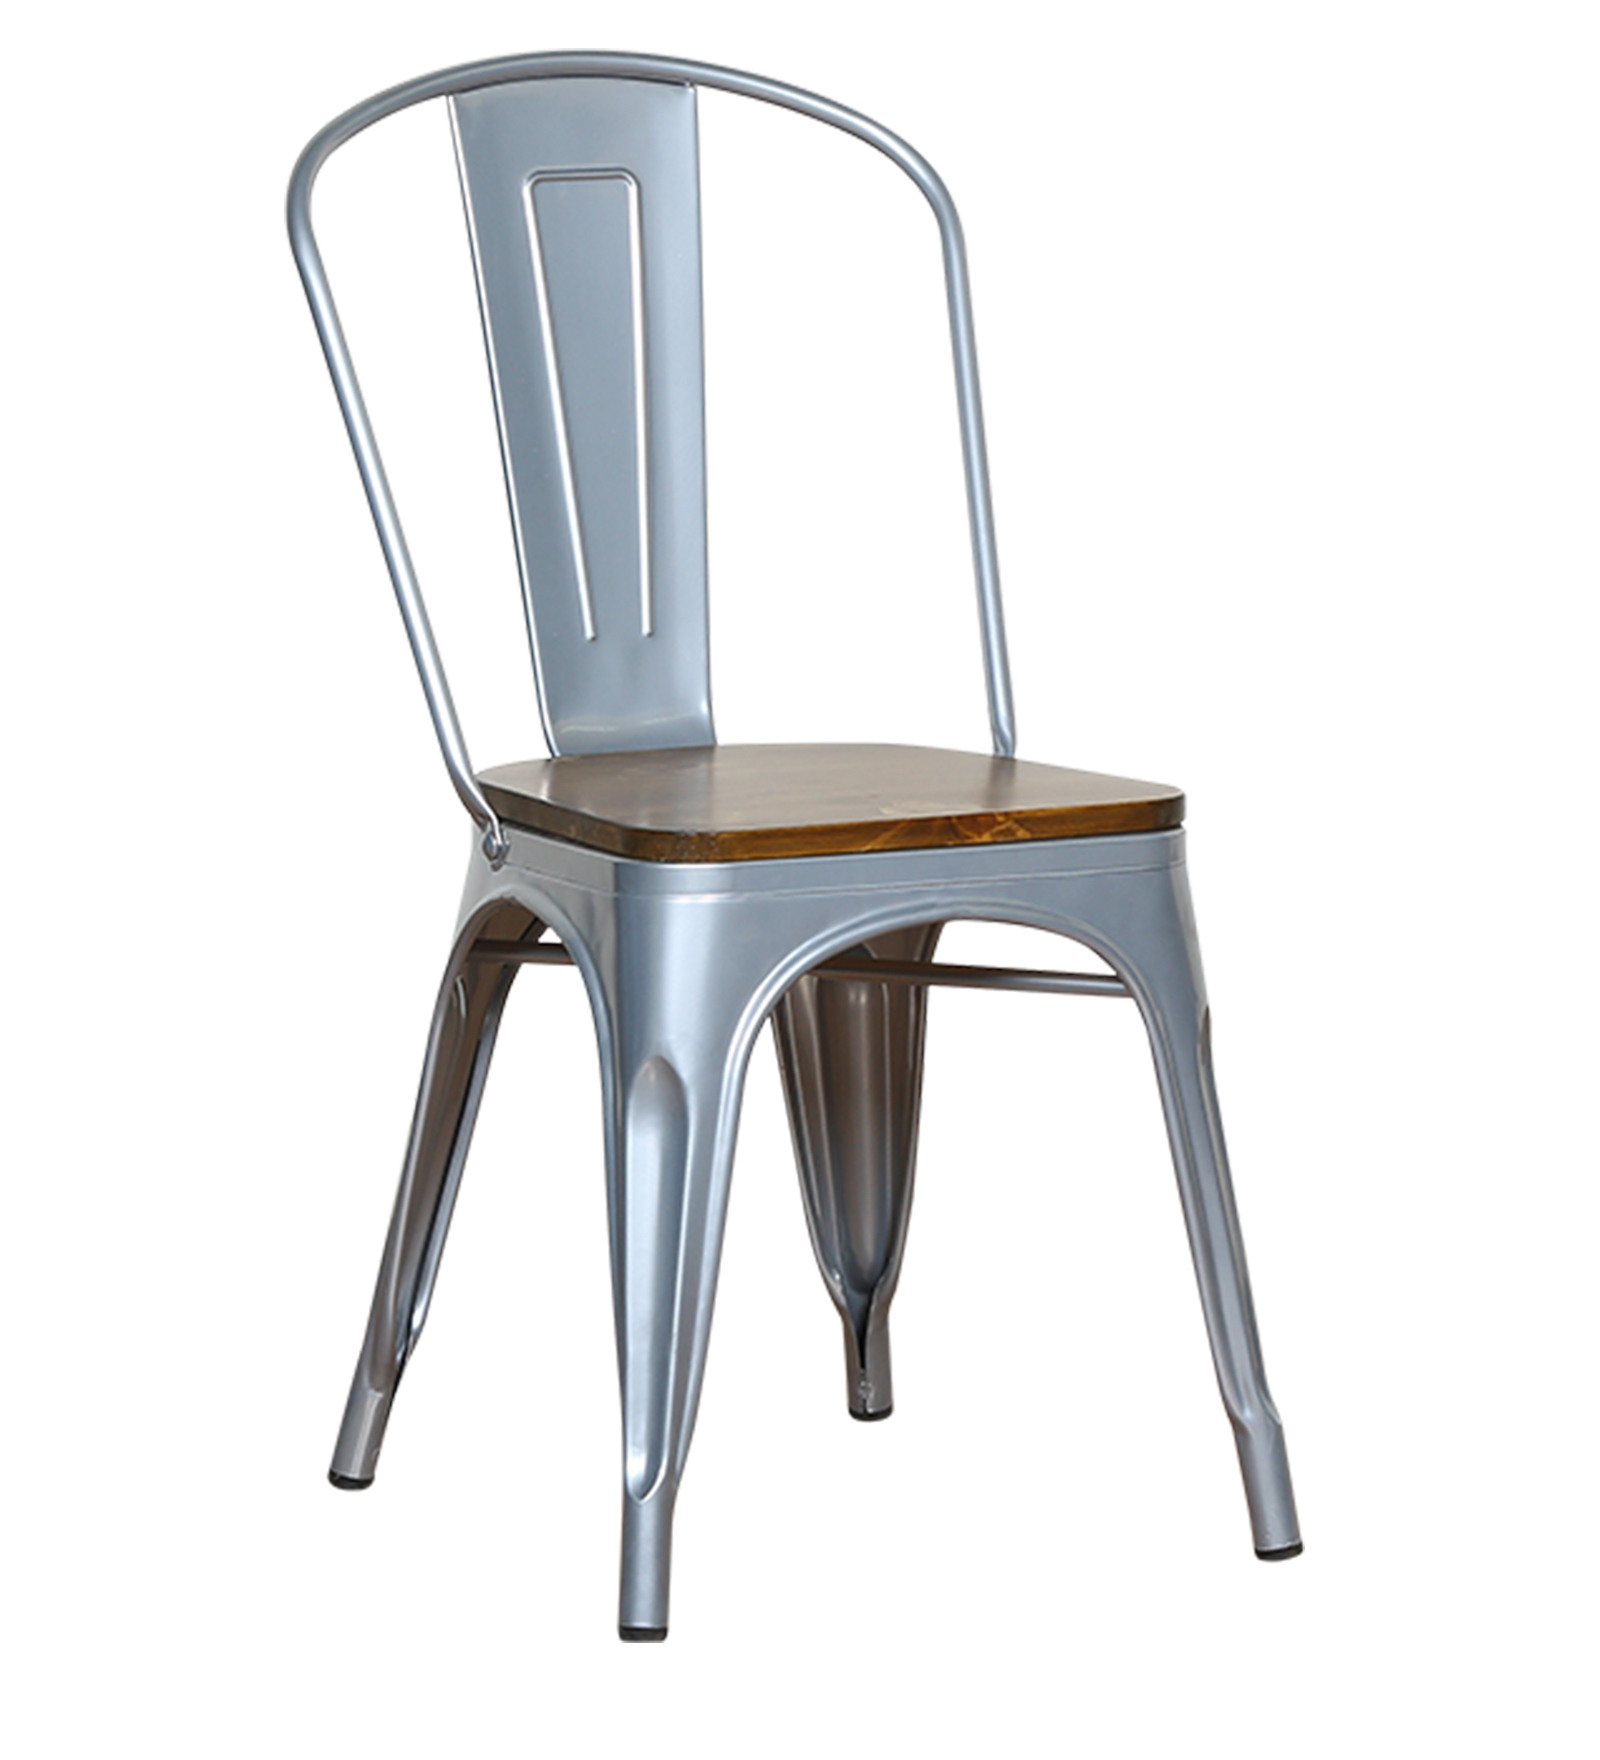Loy Metal Chair (Set of 2) in Silver Colour with Wooden Seat by Bohemiana: (271, 48, 1339, 1650)
